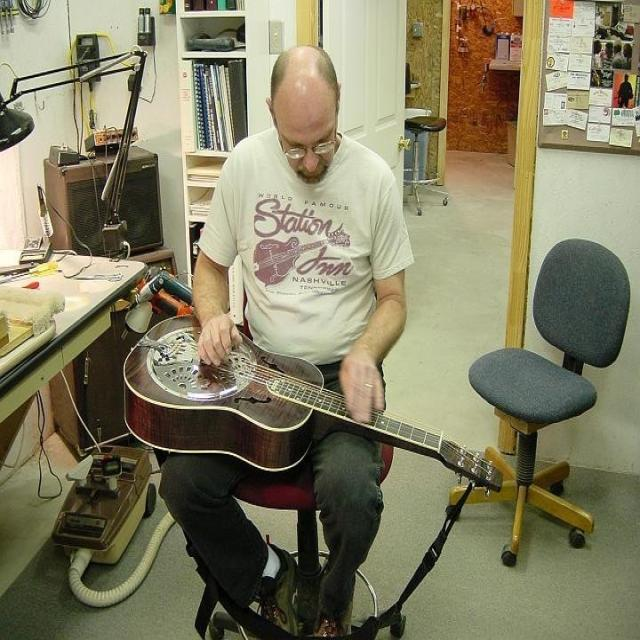guitar: (122, 312, 506, 504)
